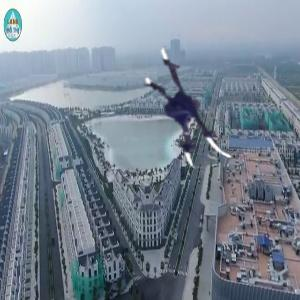drone: (132, 42, 262, 172)
